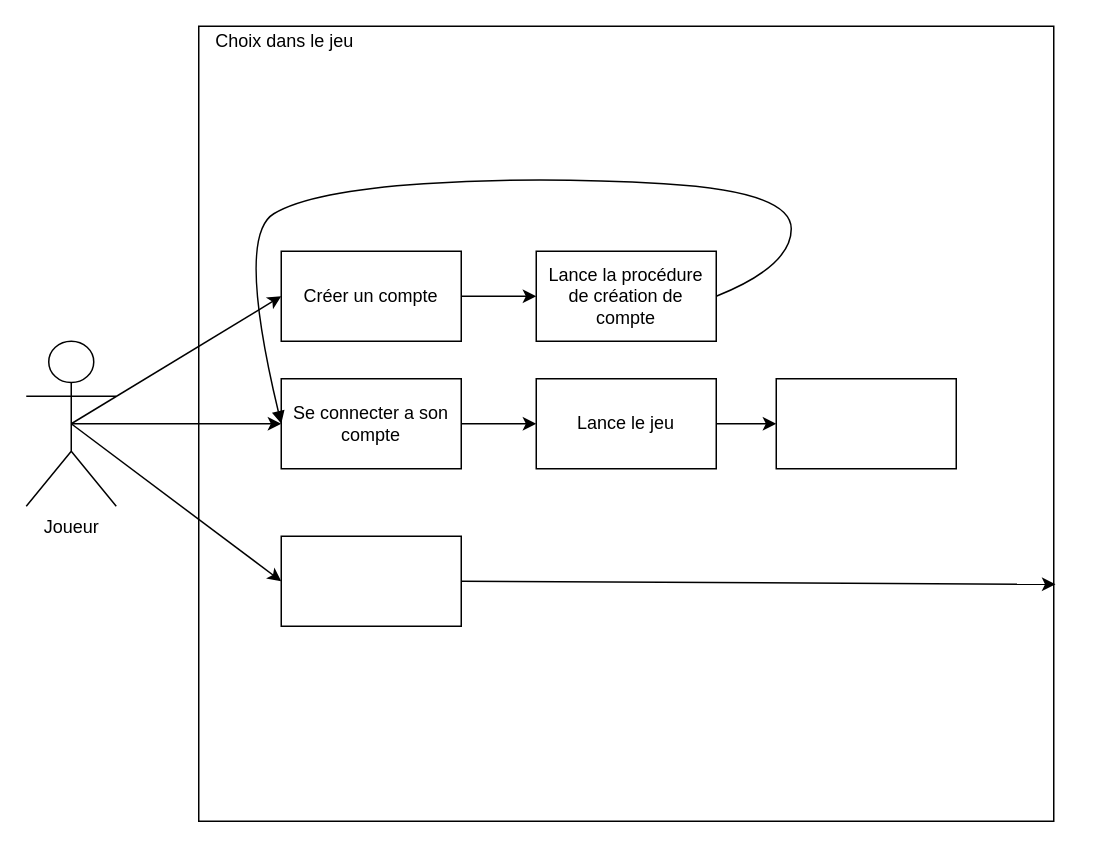
This 1095x848 diagram has some shape labels left out. The box of each missing label's shape, as (x1, y1, x2, y2) in pixels:
Jouer: (775, 377, 956, 469)
Quitter le jeu: (280, 535, 461, 626)
